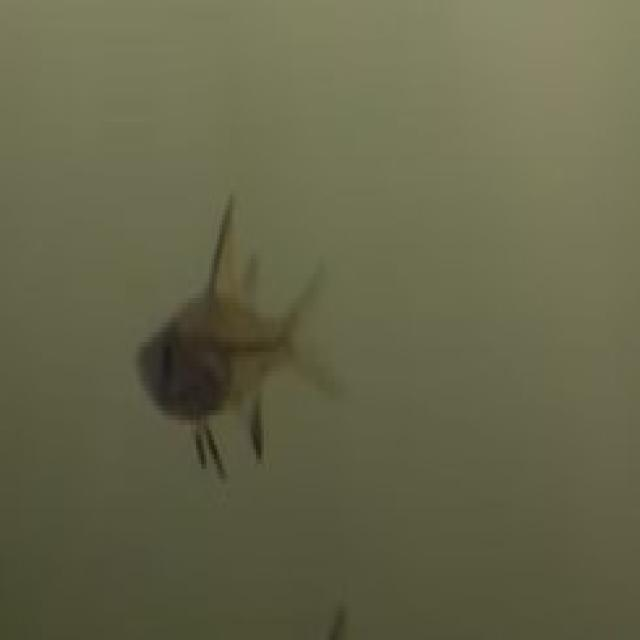Glass-Perchlet: (115, 125, 383, 534)
